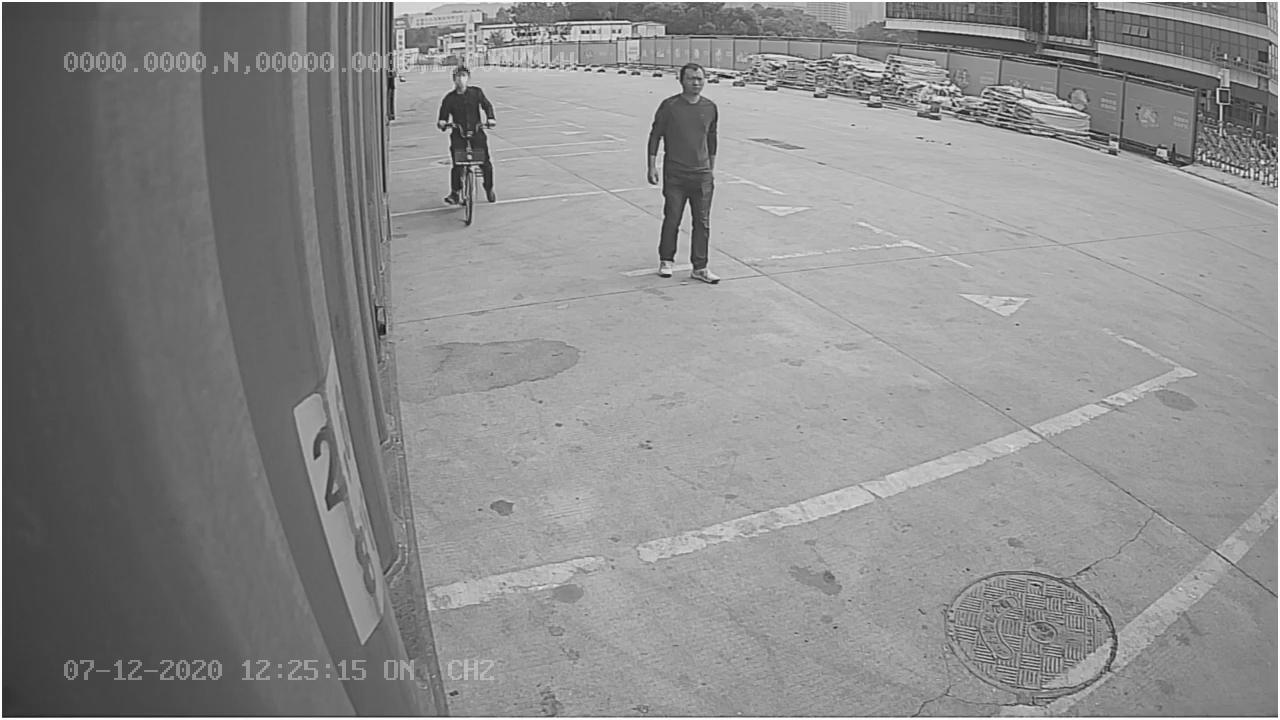person: (640, 60, 727, 289)
